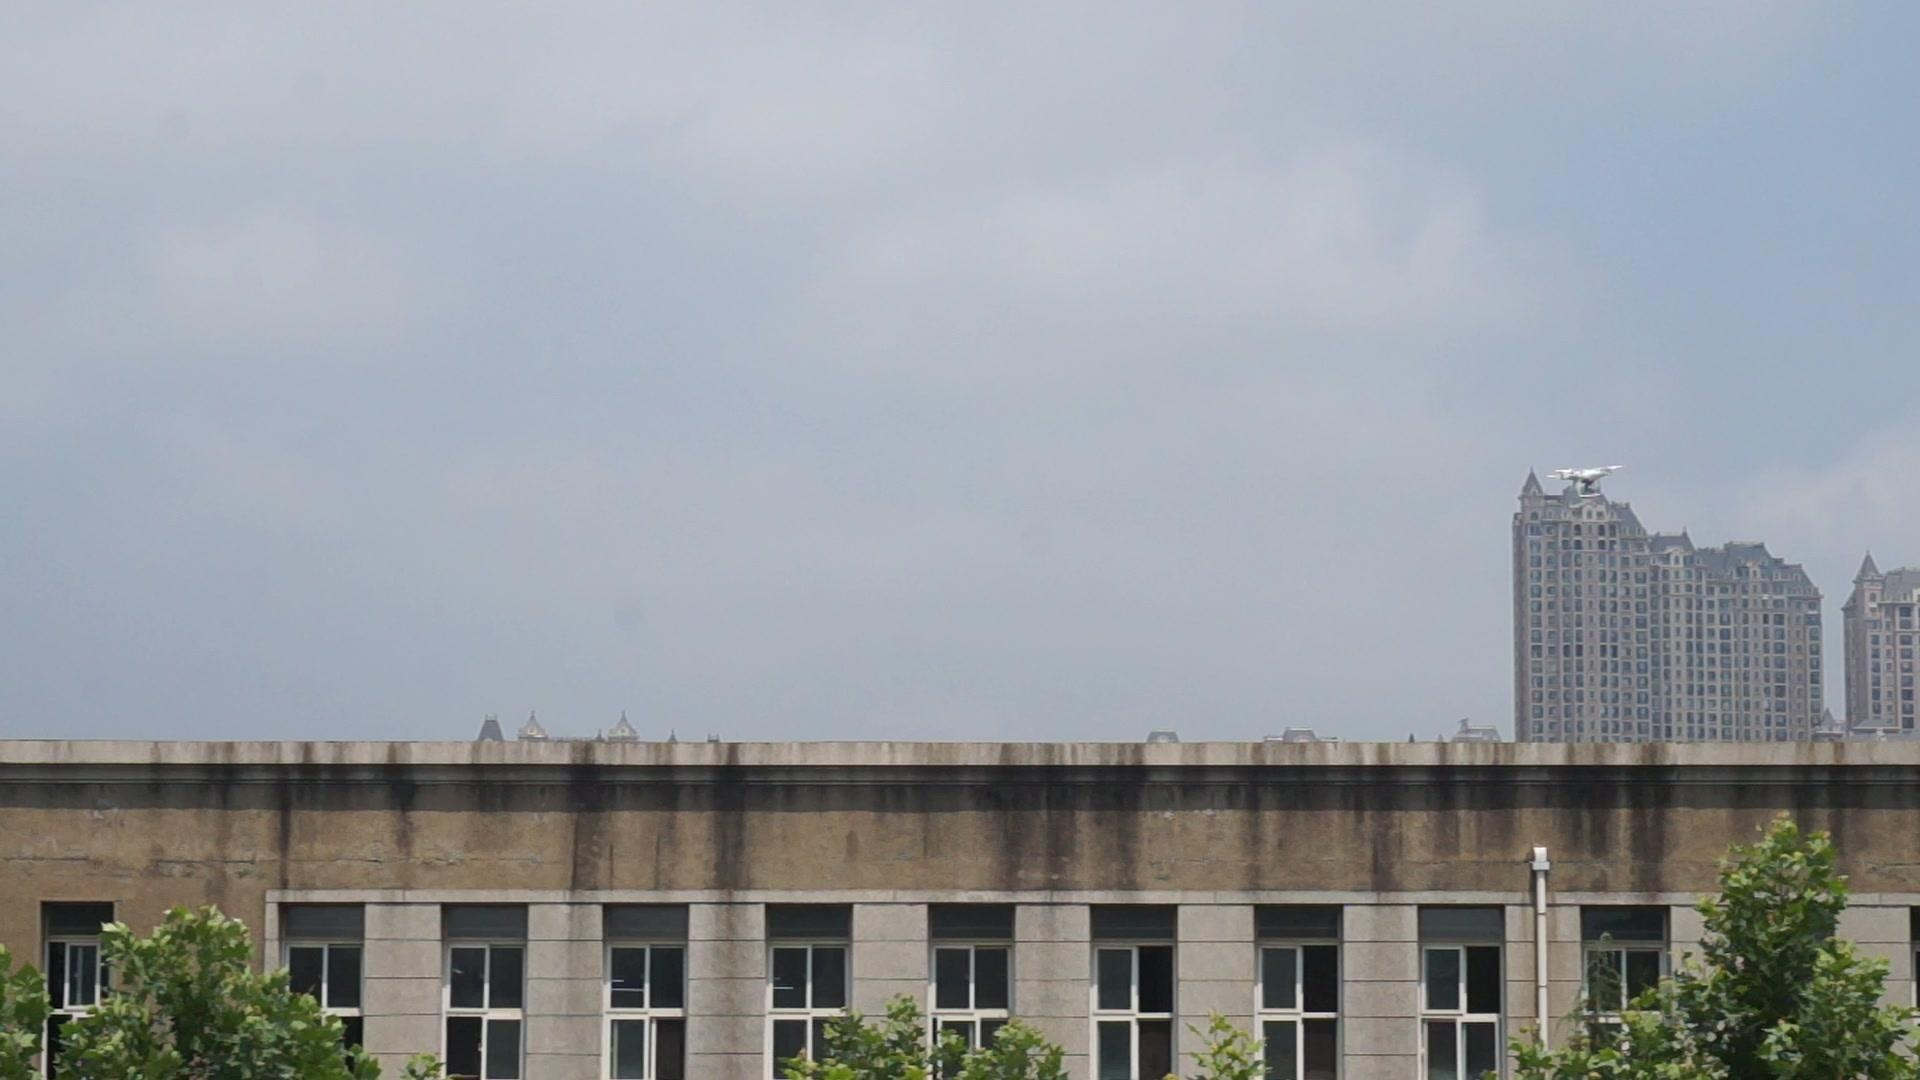UAV: (1547, 465, 1625, 498)
